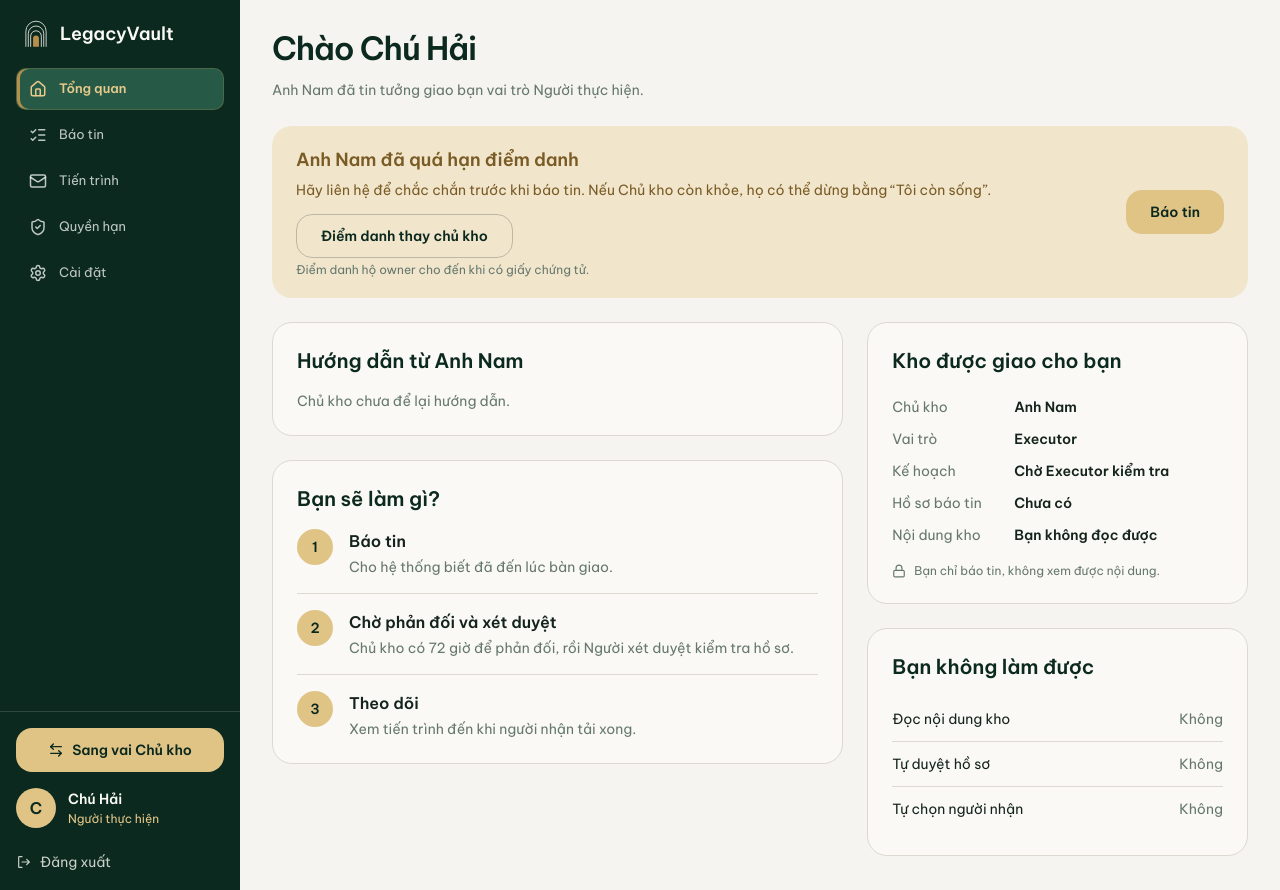
Test: Executor overview › does not check in when the Executor cancels the confirmation
Step 1. Click the button "Điểm danh thay chủ kho" → (404, 236), box [296,214,513,258]
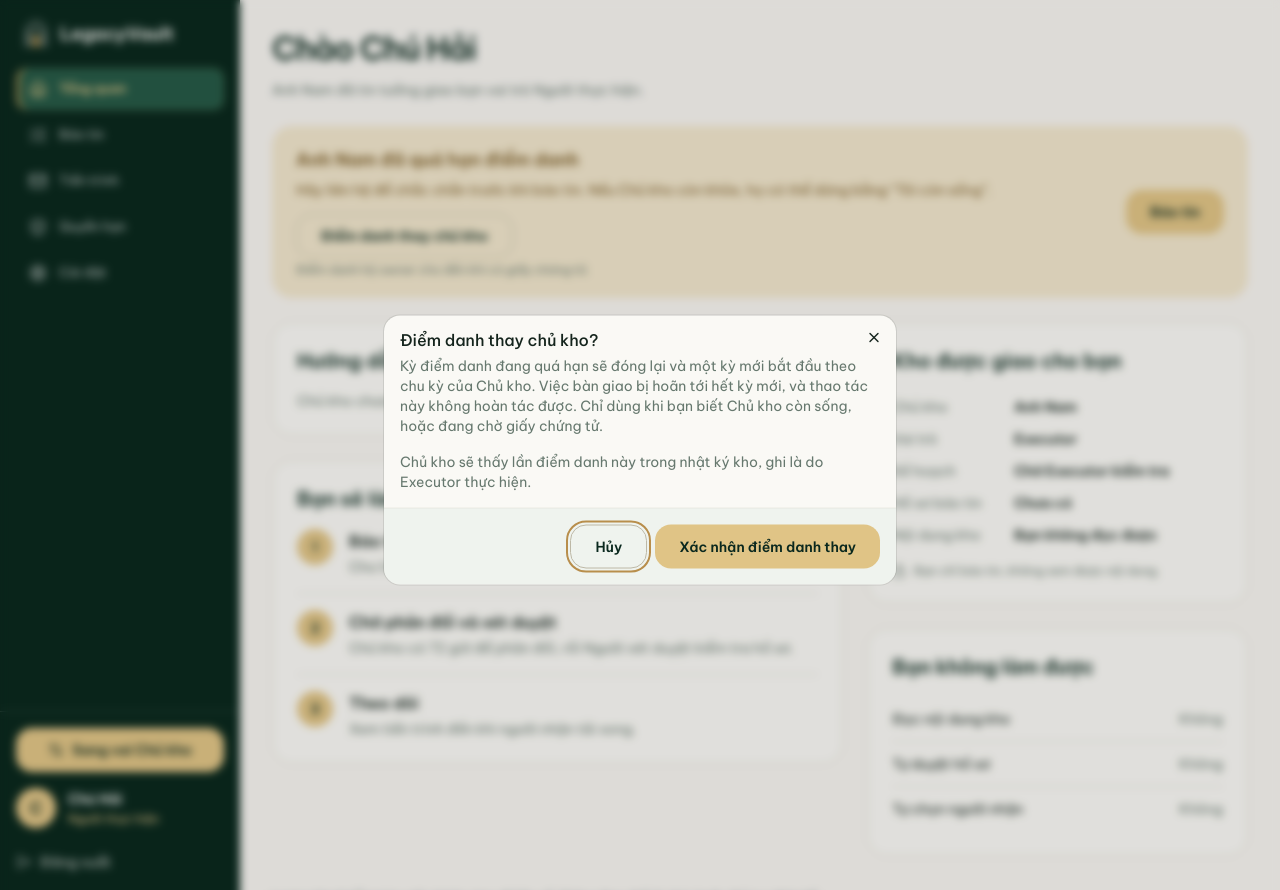
Step 2. Click the button "Hủy" → (609, 546), box [570,524,647,568]
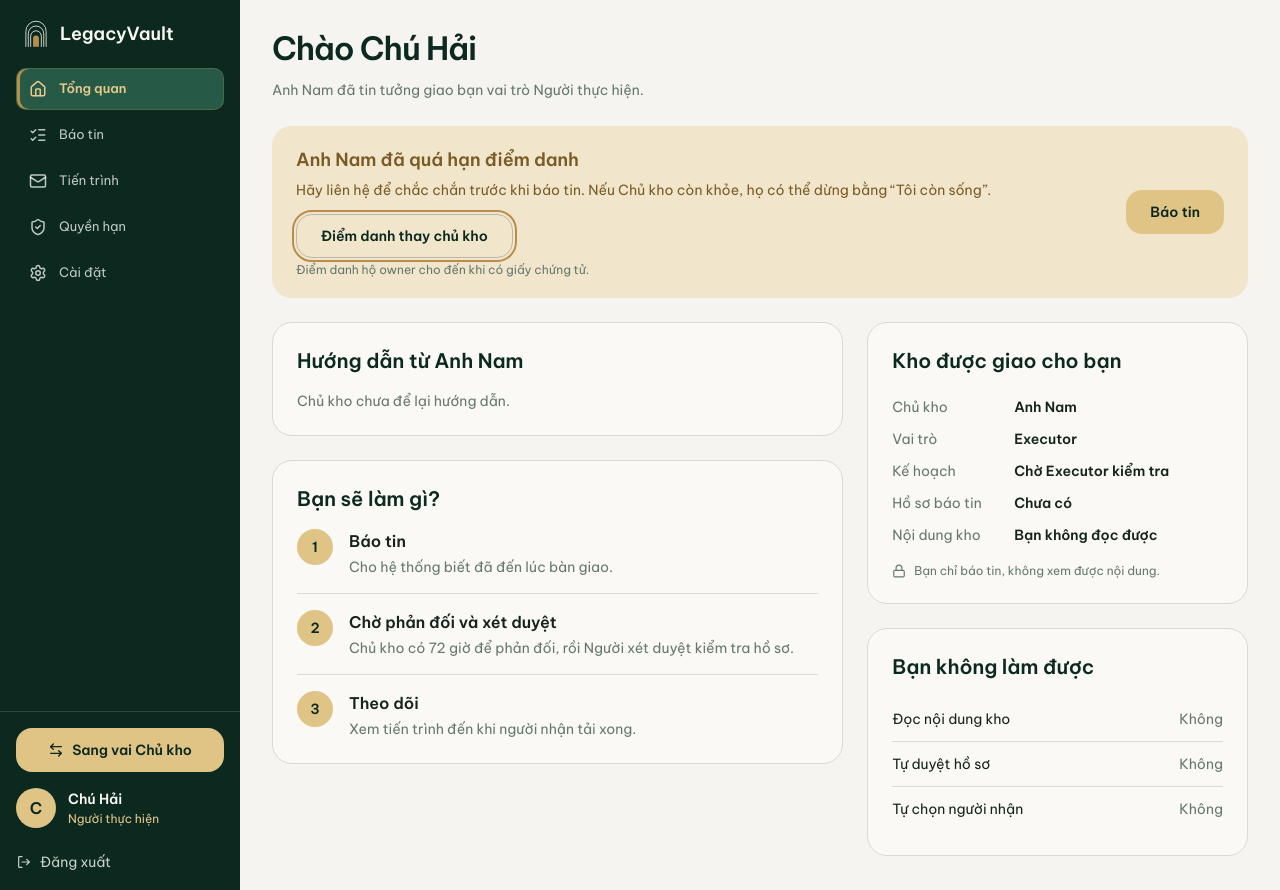
Expected: the button "Điểm danh thay chủ kho" is shown, [296,214,513,258]
Expected: the dialog is gone
